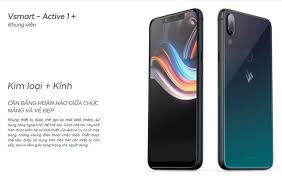vsmart: (212, 1, 277, 172), (144, 3, 207, 176)
